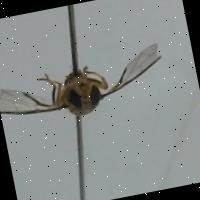Oriental-fruit-fly: (0, 16, 185, 137)
